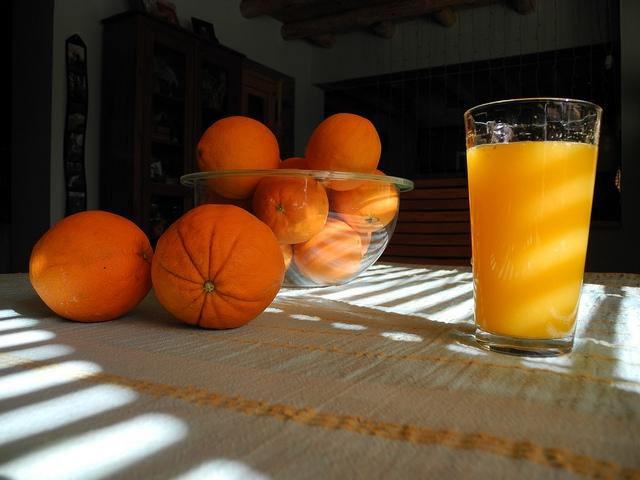orange: (151, 204, 286, 330), (29, 209, 154, 324), (196, 116, 280, 200), (306, 113, 380, 191), (252, 176, 328, 244), (292, 217, 362, 285), (330, 169, 399, 233), (202, 187, 254, 216), (354, 231, 372, 259), (278, 243, 294, 271), (279, 158, 309, 170)
